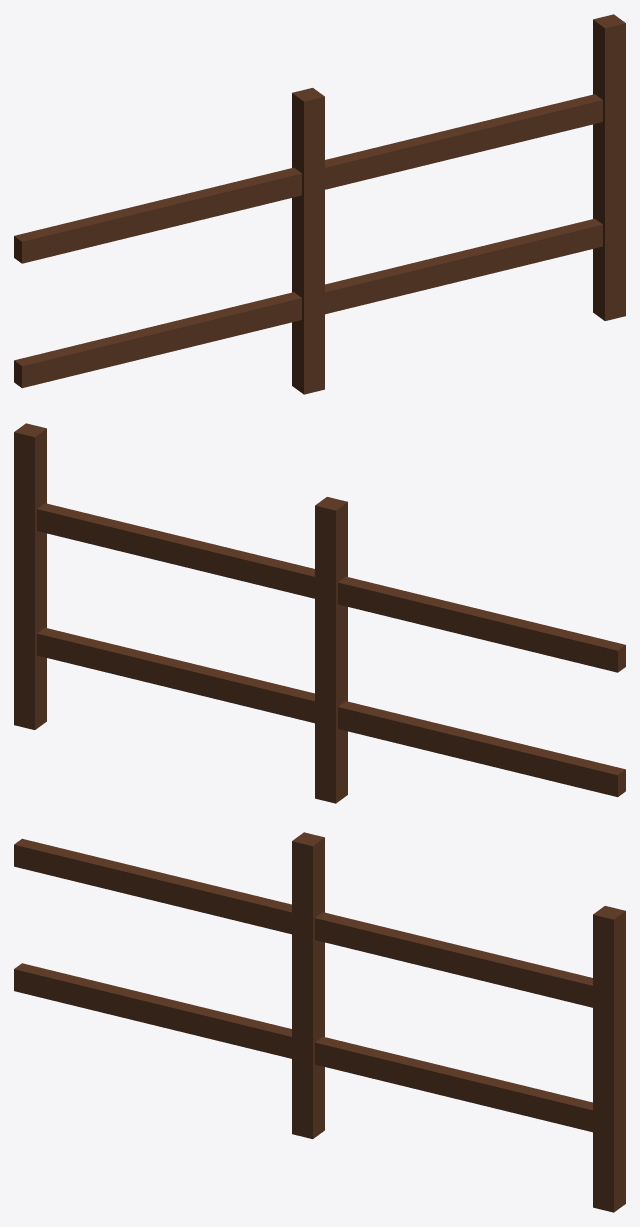
The model's file is Fence.fbx.
The picture shows the model from 3 angles, top to bottom: view 1: azimuth 30°, elevation 25°; view 2: azimuth 150°, elevation 25°; view 3: azimuth 330°, elevation 25°; orthographic projection.
Visible parts, largest first — view 1: FencePost, FencePost.003, FencePost.004, FencePost.005, FencePost.001, FencePost.002; view 2: FencePost, FencePost.003, FencePost.004, FencePost.005, FencePost.001, FencePost.002; view 3: FencePost, FencePost.003, FencePost.005, FencePost.001, FencePost.002, FencePost.004.
Part boxes in pixels (bbox=[...]): FencePost: bbox=[593, 14, 625, 320]; FencePost.003: bbox=[292, 88, 324, 394]; FencePost.004: bbox=[14, 167, 301, 263]; FencePost.005: bbox=[14, 292, 301, 388]; FencePost.001: bbox=[325, 94, 602, 189]; FencePost.002: bbox=[325, 218, 602, 314]; FencePost: bbox=[14, 423, 46, 729]; FencePost.003: bbox=[315, 497, 347, 803]; FencePost.004: bbox=[338, 576, 625, 672]; FencePost.005: bbox=[338, 701, 625, 797]; FencePost.001: bbox=[37, 503, 314, 598]; FencePost.002: bbox=[37, 627, 314, 723]; FencePost: bbox=[593, 906, 625, 1212]; FencePost.003: bbox=[292, 832, 324, 1138]; FencePost.005: bbox=[14, 963, 291, 1058]; FencePost.001: bbox=[315, 912, 592, 1007]; FencePost.002: bbox=[315, 1036, 592, 1132]; FencePost.004: bbox=[14, 838, 291, 934].
Size of the model in its own units: 262 by 122 by 9.14.
